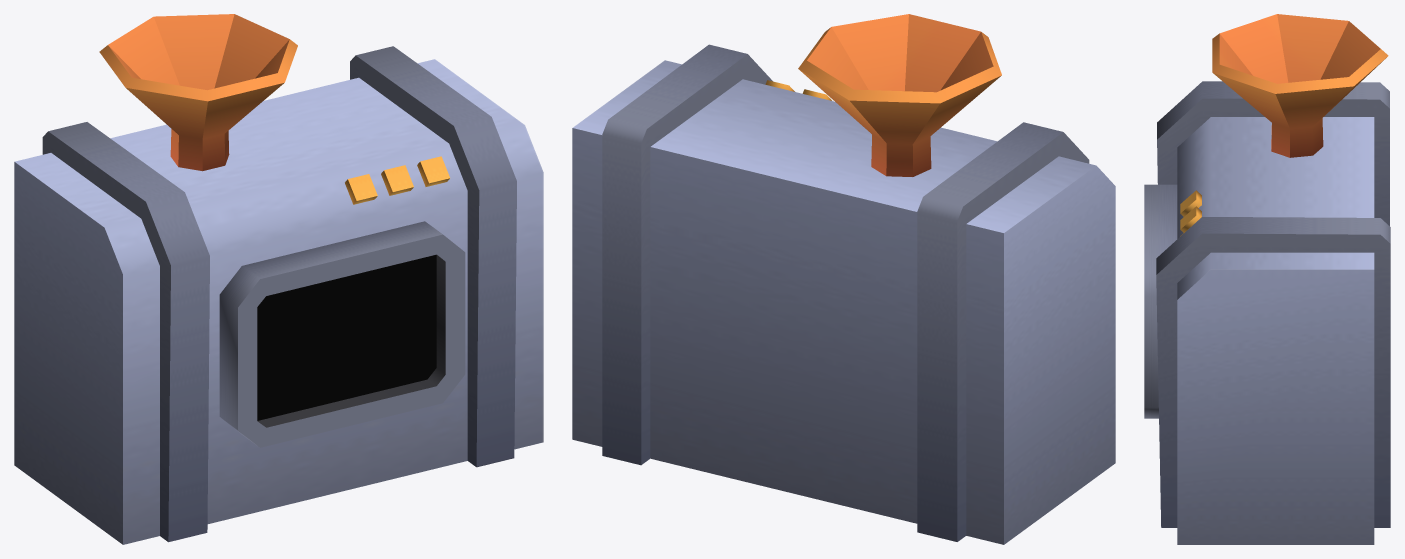
File: eating_robot.glb
3 views of the same model, side by side, from view 1: azimuth 30°, elevation 25°; view 2: azimuth 150°, elevation 25°; view 3: azimuth 270°, elevation 25° (orthographic). The views are drawn at different scales.
Parts seen in each view (by area): view 1: Machine, Screen, Funnel, Button3, Button1, Button2; view 2: Machine, Funnel; view 3: Machine, Funnel, Screen, Button3, Button2.
Part boxes in pixels (bbox=[...]): Machine: bbox=[14, 46, 543, 544]; Screen: bbox=[219, 221, 465, 447]; Funnel: bbox=[99, 14, 297, 171]; Button3: bbox=[345, 174, 377, 204]; Button1: bbox=[417, 156, 449, 186]; Button2: bbox=[381, 165, 413, 195]; Machine: bbox=[572, 44, 1115, 544]; Funnel: bbox=[798, 14, 1001, 176]; Machine: bbox=[1156, 81, 1390, 544]; Funnel: bbox=[1212, 14, 1388, 157]; Screen: bbox=[1144, 184, 1177, 418]; Button3: bbox=[1180, 190, 1201, 216]; Button2: bbox=[1180, 206, 1201, 232].
Size of the model in its own units: 1.61 by 1.5 by 0.8975.
Materials: 1 (1 with a texture image).
